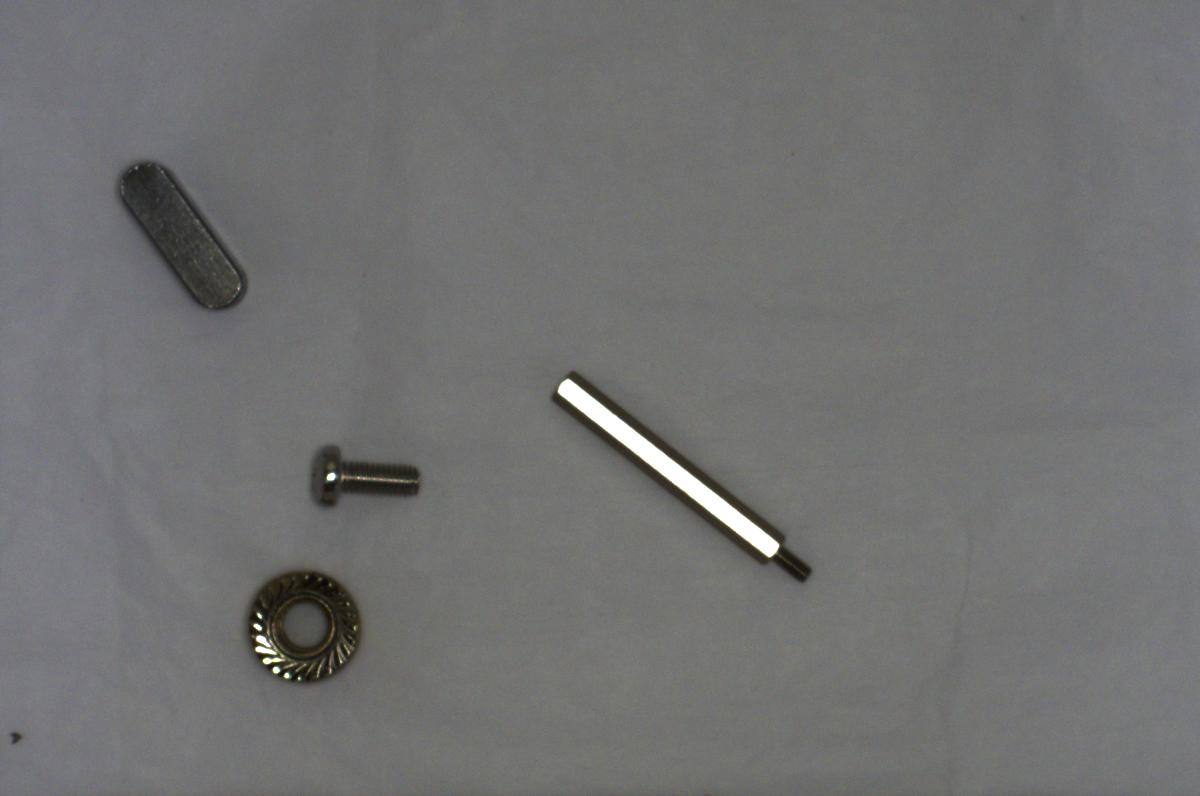Flange nut: (237, 556, 364, 688)
Hexagonal steel column: (540, 358, 826, 595)
Keybar: (104, 152, 250, 318)
Round head screw: (300, 434, 428, 513)
